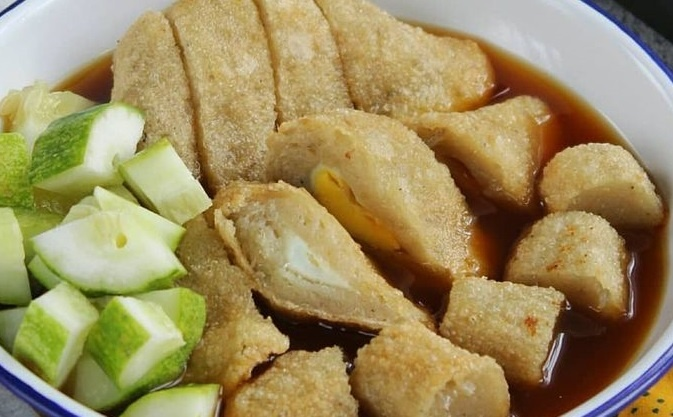pempek: (17, 21, 662, 408)
